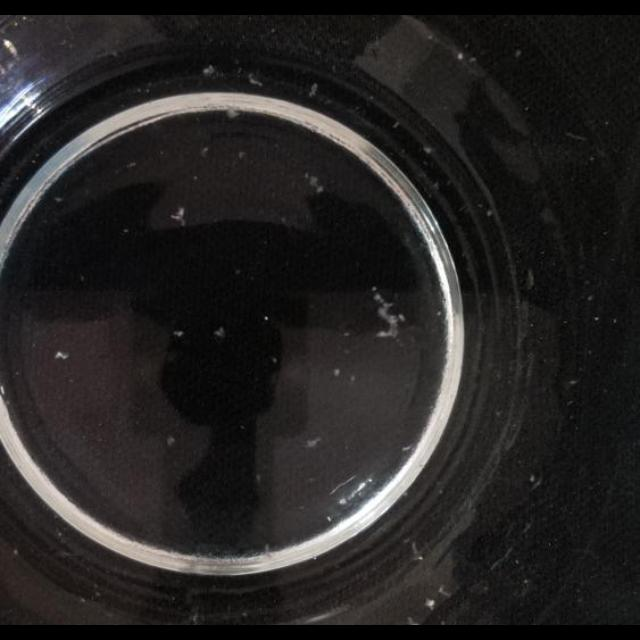Fibre: (304, 172, 326, 192), (171, 207, 187, 225), (247, 73, 263, 87), (202, 64, 215, 76)
microbeads: (305, 437, 321, 449), (54, 350, 70, 360), (227, 108, 240, 120), (214, 326, 226, 338), (308, 82, 318, 96), (166, 435, 176, 447), (200, 146, 210, 158), (396, 312, 406, 322), (423, 144, 433, 154), (402, 442, 412, 452), (172, 330, 184, 338), (238, 150, 246, 160), (568, 377, 578, 385), (270, 354, 278, 364), (127, 162, 137, 170), (392, 120, 400, 130), (333, 368, 341, 377), (528, 473, 536, 482), (514, 50, 522, 59), (53, 195, 63, 202), (342, 330, 350, 338), (457, 53, 465, 61), (350, 374, 356, 384), (588, 295, 594, 303), (486, 208, 492, 216), (437, 309, 443, 317), (370, 286, 378, 292), (14, 548, 20, 556), (263, 316, 269, 322), (594, 315, 600, 321)
